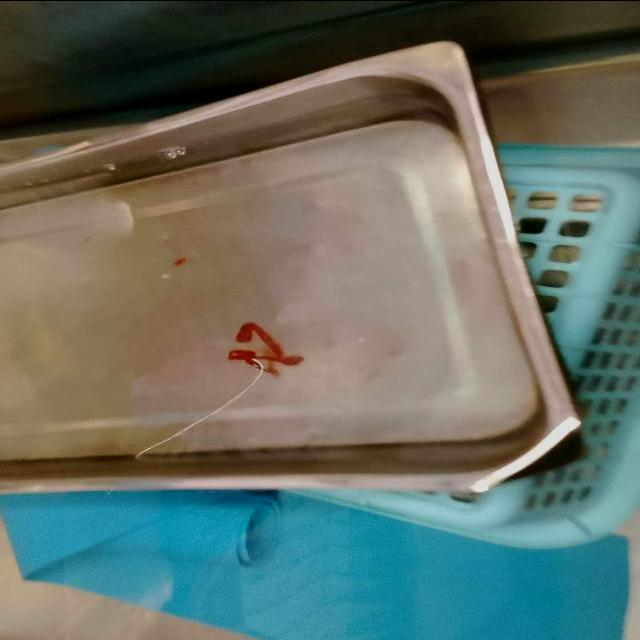General: (0, 35, 638, 550)
